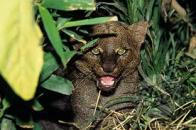Jaguarundi: (72, 20, 150, 124)
